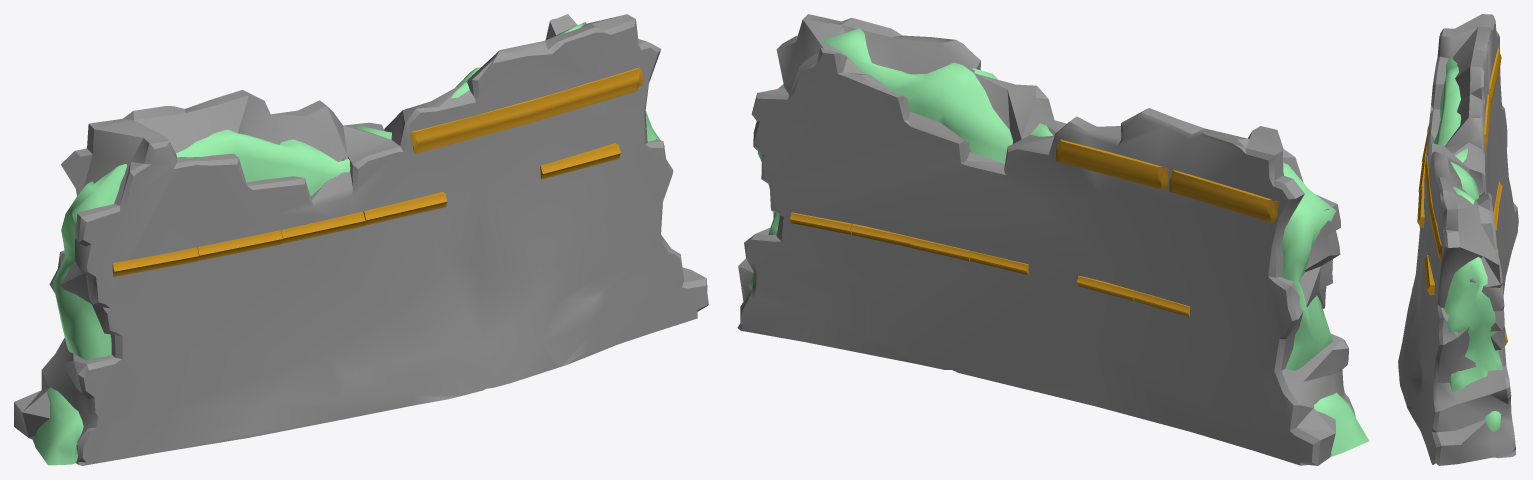
Rendered from SM_Castle_Wall_A_ALT.fbx.
The picture shows the model from 3 angles, left to right: view 1: azimuth 30°, elevation 25°; view 2: azimuth 150°, elevation 25°; view 3: azimuth 270°, elevation 25°; orthographic projection. The views are drawn at different scales.
Visible parts, largest first — view 1: SM_Castle_Wall_A_ALT_LOD0; view 2: SM_Castle_Wall_A_ALT_LOD0; view 3: SM_Castle_Wall_A_ALT_LOD0.
Boxes of the visible parts, x1,y1,x2,y2 form: SM_Castle_Wall_A_ALT_LOD0: [14, 14, 708, 465]; SM_Castle_Wall_A_ALT_LOD0: [737, 14, 1369, 465]; SM_Castle_Wall_A_ALT_LOD0: [1398, 14, 1518, 465].
Size of what is drawn, in the model's own units: 1681 by 759 by 347.
